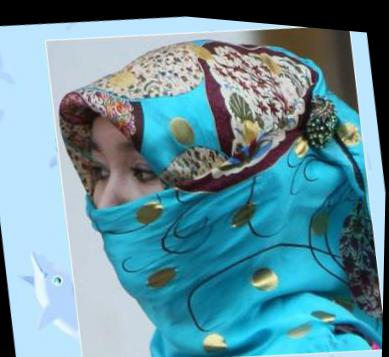WRONG: (71, 105, 220, 314)
